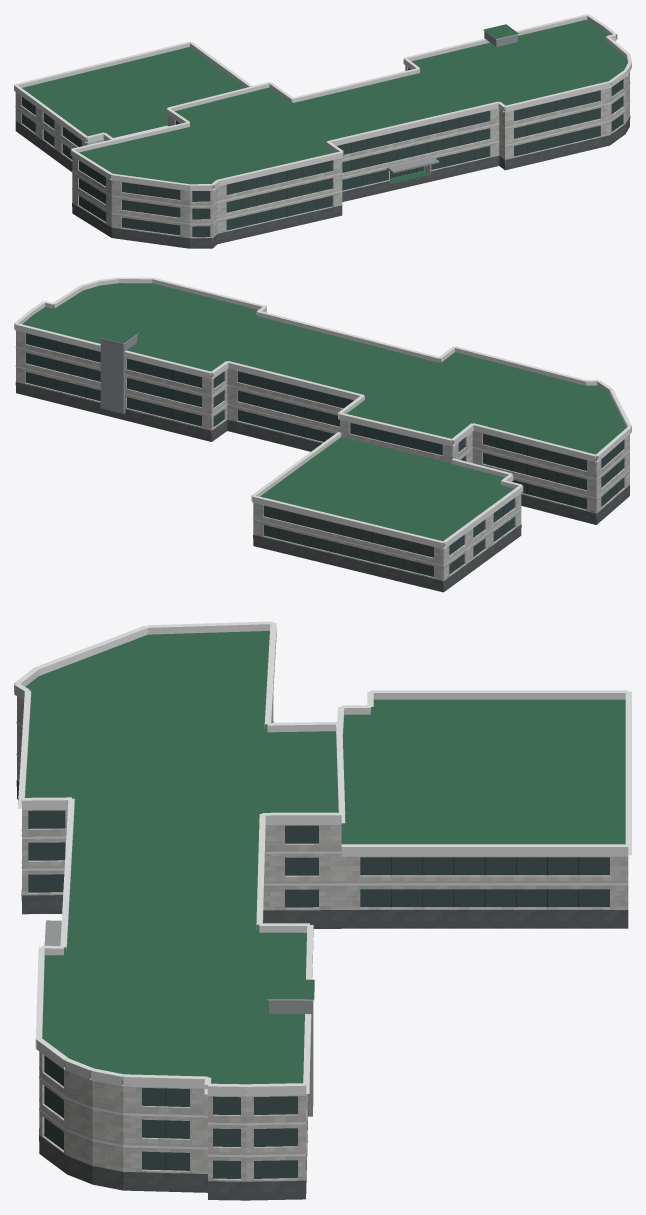
The picture shows the model from 3 angles, top to bottom: view 1: azimuth 30°, elevation 25°; view 2: azimuth 150°, elevation 25°; view 3: azimuth 270°, elevation 25°; orthographic projection. The views are drawn at different scales.
Parts seen in each view (by area): view 1: studentCenter1__roof, studentCenter1__glass, studentCenter1__wall, studentCenter1__trim, studentCenter1__base, studentCenter1__frame, studentCenter1__canopy; view 2: studentCenter1__roof, studentCenter1__glass, studentCenter1__wall, studentCenter1__trim, studentCenter1__base, studentCenter1__wall2, studentCenter1__frame; view 3: studentCenter1__roof, studentCenter1__wall, studentCenter1__trim, studentCenter1__glass, studentCenter1__base, studentCenter1__wall2.
Boxes of the visible parts, x1=… form: studentCenter1__roof: x1=22, y1=19, x2=627, y2=188; studentCenter1__glass: x1=21, y1=68, x2=622, y2=237; studentCenter1__wall: x1=15, y1=41, x2=629, y2=240; studentCenter1__trim: x1=14, y1=14, x2=631, y2=224; studentCenter1__base: x1=15, y1=115, x2=630, y2=248; studentCenter1__frame: x1=29, y1=94, x2=585, y2=233; studentCenter1__canopy: x1=387, y1=156, x2=439, y2=173; studentCenter1__roof: x1=22, y1=283, x2=626, y2=546; studentCenter1__glass: x1=26, y1=333, x2=623, y2=576; studentCenter1__wall: x1=16, y1=330, x2=629, y2=584; studentCenter1__trim: x1=14, y1=277, x2=631, y2=566; studentCenter1__base: x1=15, y1=382, x2=629, y2=592; studentCenter1__wall2: x1=100, y1=335, x2=137, y2=413; studentCenter1__frame: x1=41, y1=337, x2=616, y2=573; studentCenter1__roof: x1=25, y1=631, x2=625, y2=1091; studentCenter1__wall: x1=17, y1=696, x2=628, y2=1181; studentCenter1__trim: x1=14, y1=621, x2=631, y2=1157; studentCenter1__glass: x1=28, y1=810, x2=609, y2=1178; studentCenter1__base: x1=16, y1=721, x2=628, y2=1200; studentCenter1__wall2: x1=269, y1=1000, x2=313, y2=1116.
Bounding box in the file's own units: 119 × 15.5 × 66.65.
9 materials, 2 textured.
